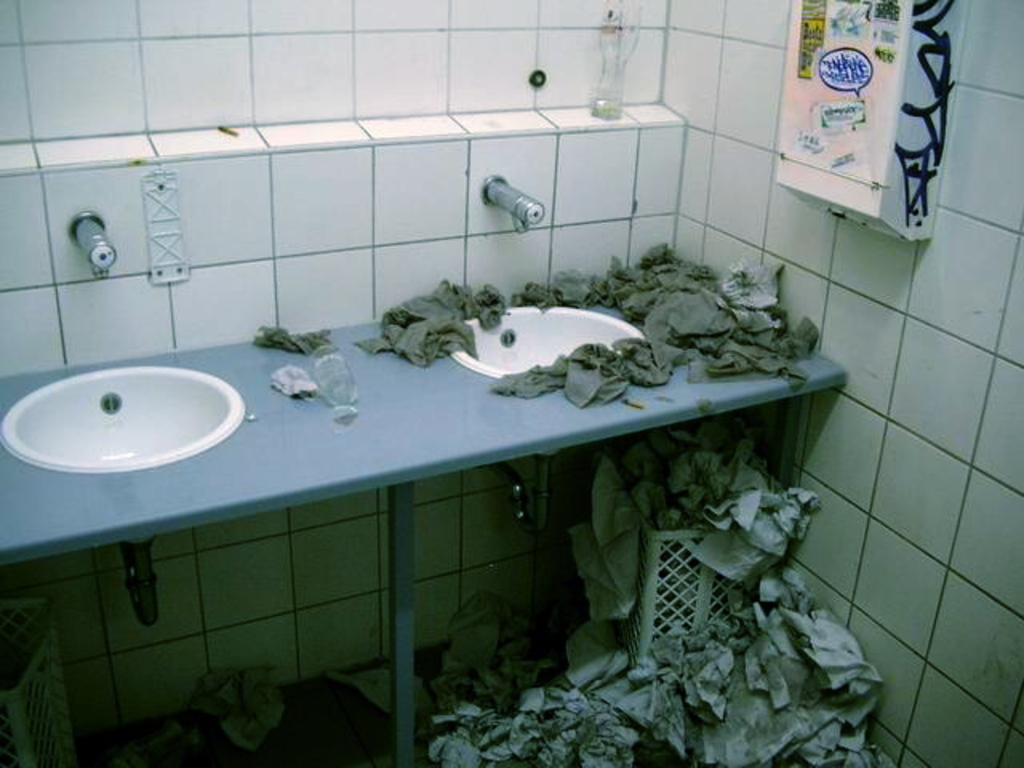tap: (448, 177, 563, 238), (67, 206, 121, 283)
